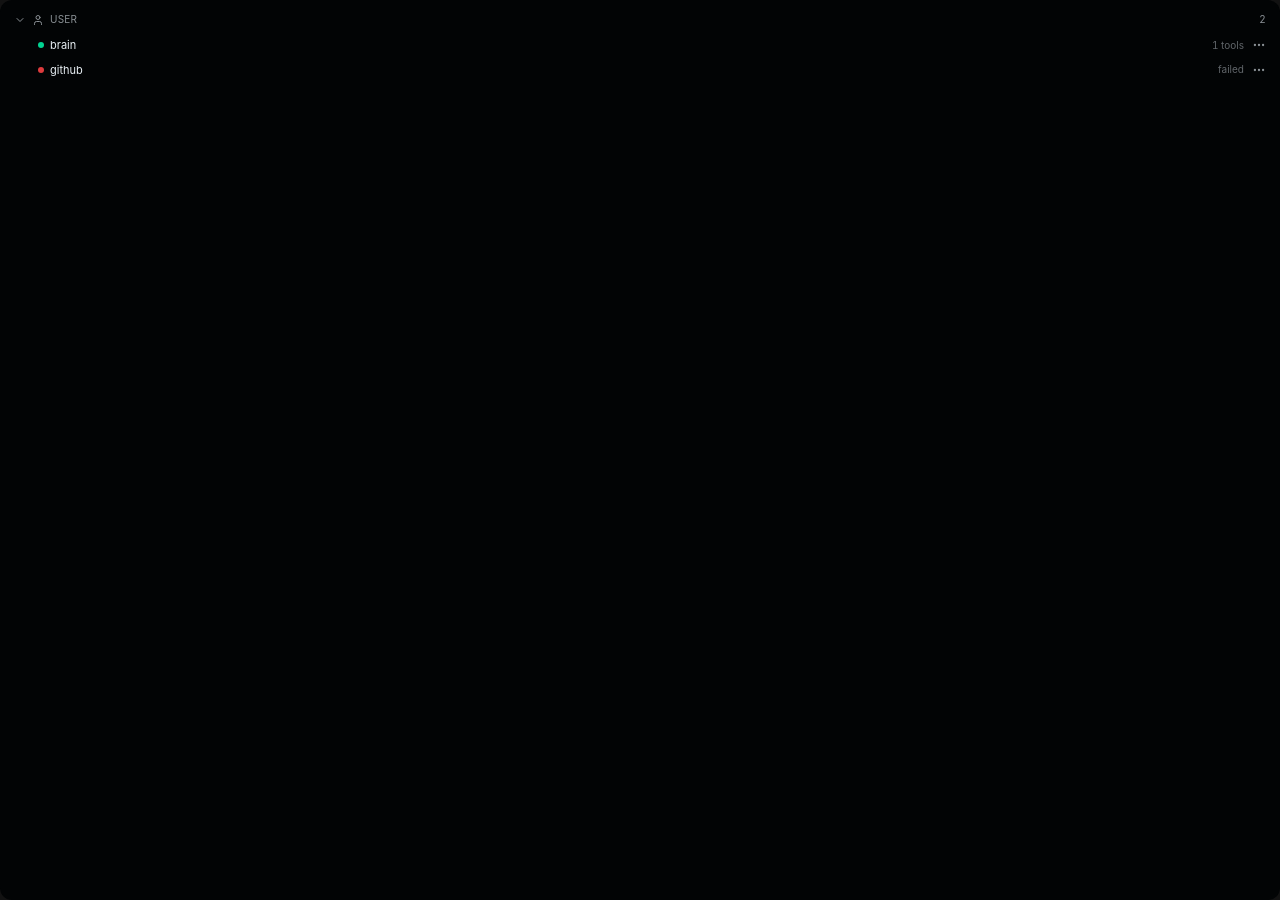
Test case: SessionMCPStatus › opens a server to show its tools and its error
# By its label text: the row's ⋯ trigger ("Actions for brain") is a button too.
Click the button "brain 1 tools": (1228, 45) [8,33,1250,58]
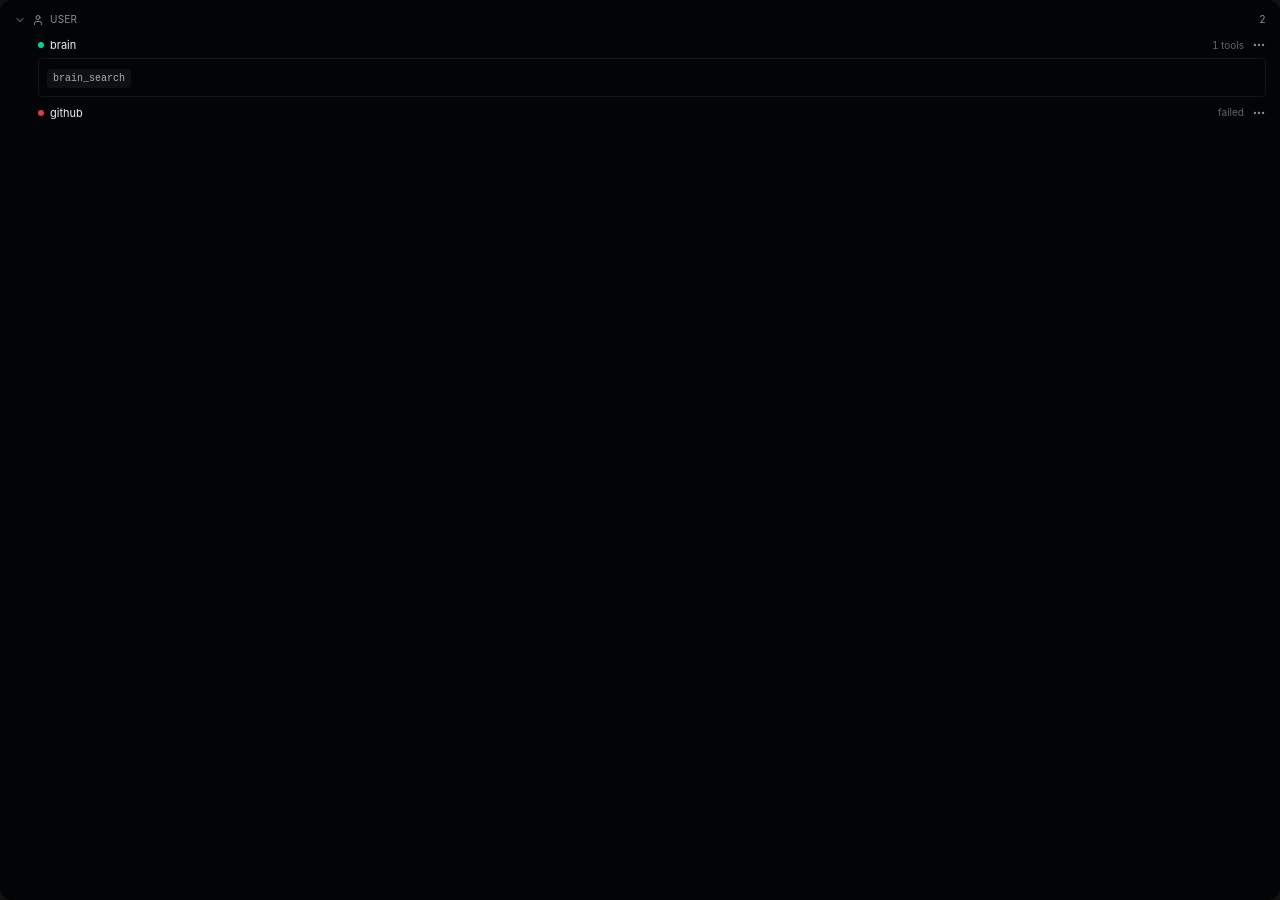
Now the text "brain_search" is shown, box [47,68,131,88]
Click the button "github failed": (66, 112) [8,100,1250,125]
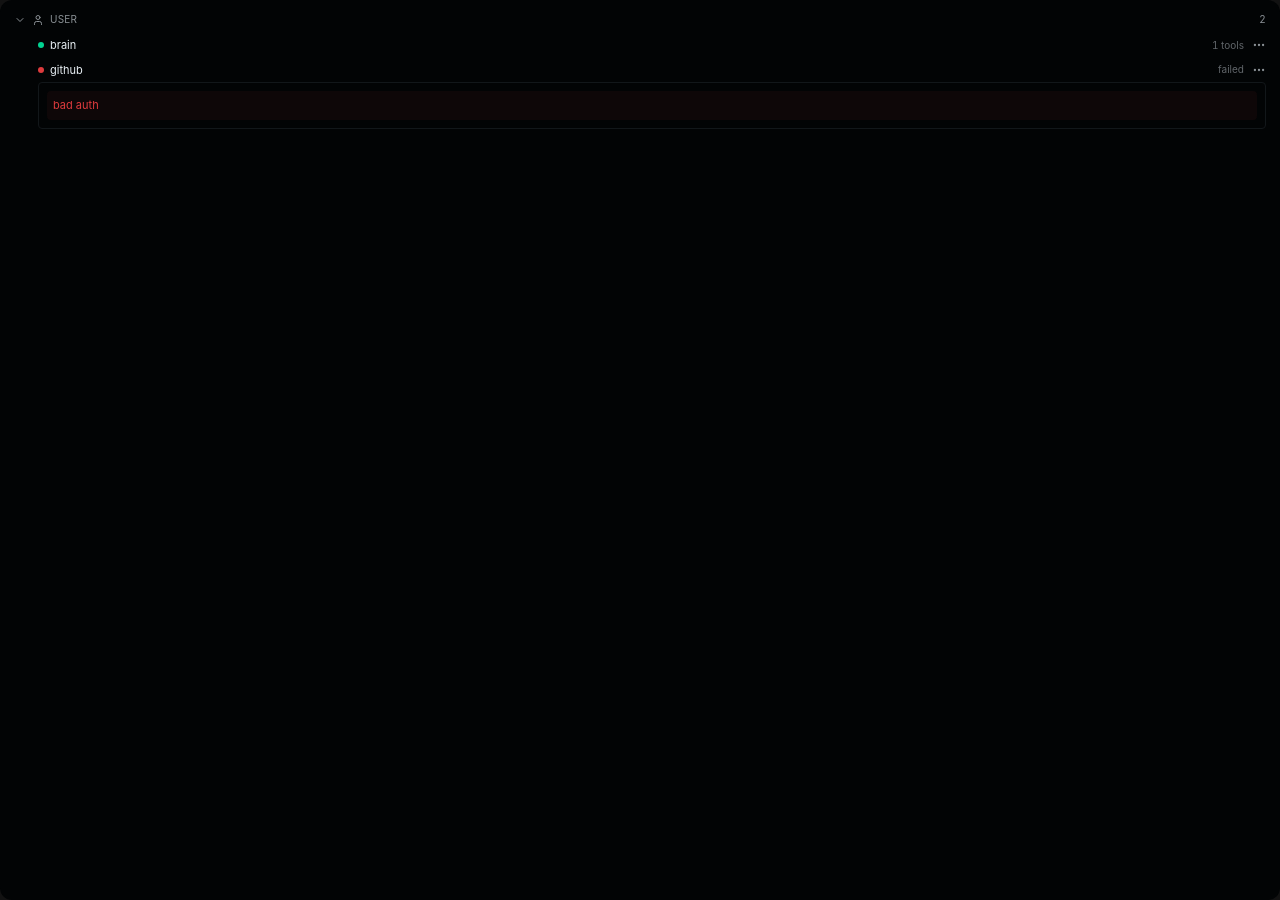
Now the text "bad auth" is shown, box [47,91,1257,120]
